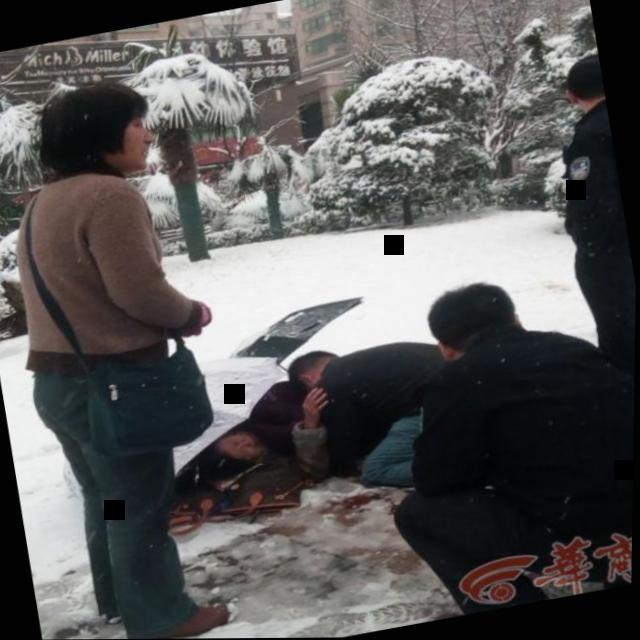Fall-Detected: (155, 352, 376, 534)
